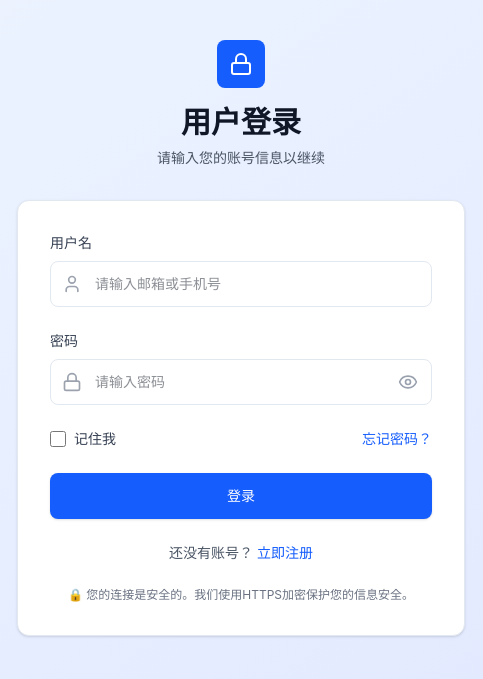
Test: LoginPage › 表单验证 › 应该验证用户名格式
// 输入无效的用户名
Type "invalid" into the field labelled "用户名". click: point(241, 284)
box: x1=50 y1=261 x2=432 y2=307
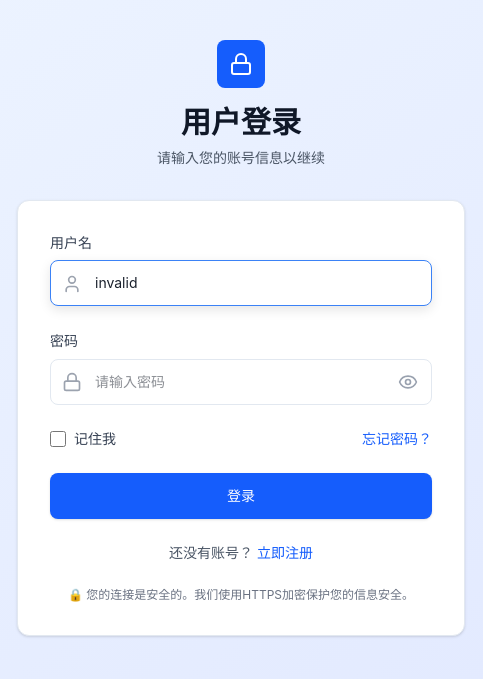
Click the button "登录". click: point(241, 496)
box: x1=50 y1=473 x2=432 y2=519
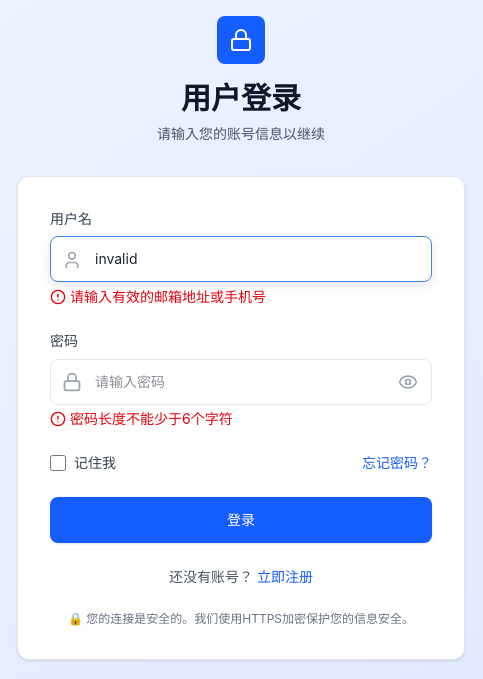
Result: the text "请输入有效的邮箱地址或手机号" is shown at x1=50 y1=288 x2=266 y2=305
